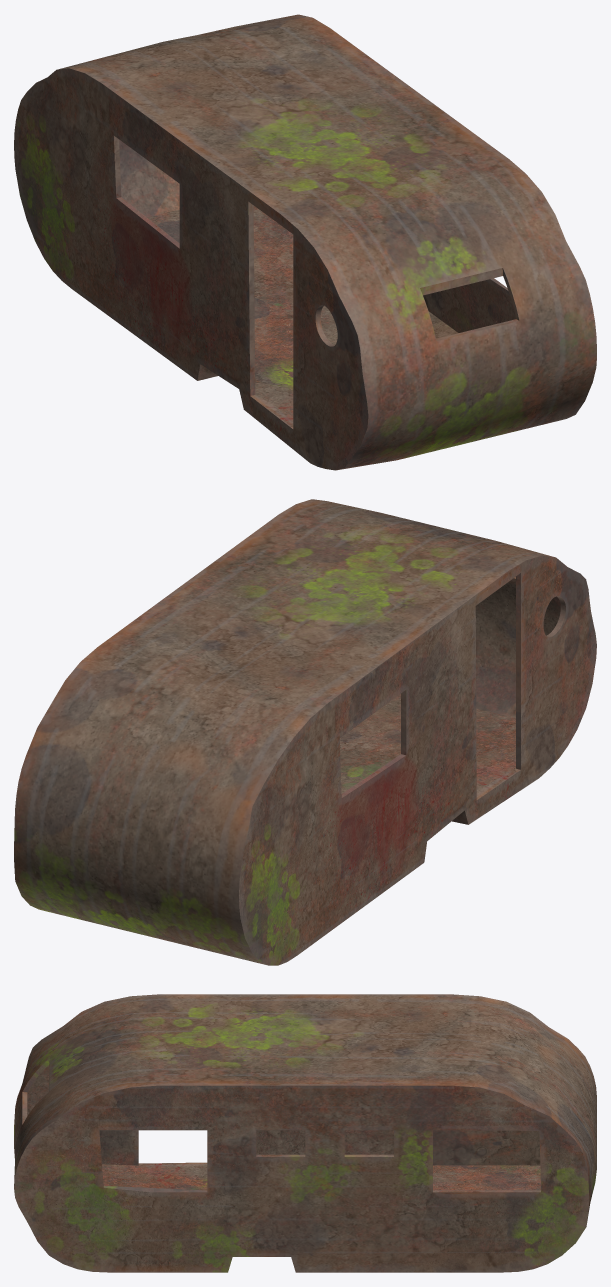
The model's file is Camper.fbx.
3 renders of one model, top to bottom at view 1: azimuth 30°, elevation 25°; view 2: azimuth 150°, elevation 25°; view 3: azimuth 270°, elevation 25°, orthographic. The views are drawn at different scales.
Visible parts, largest first — view 1: Trailer; view 2: Trailer; view 3: Trailer.
Part boxes in pixels (x1,y1,x2,y2): Trailer: [14, 14, 596, 470]; Trailer: [14, 499, 596, 965]; Trailer: [14, 994, 596, 1272].
Size of the model in its own units: 227 by 210 by 594.
